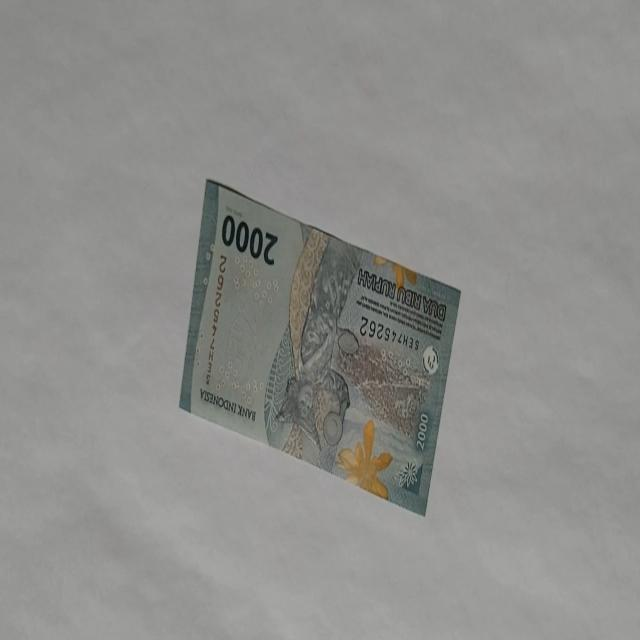dua ribu rupiah: (178, 177, 462, 517), (336, 416, 392, 499)
